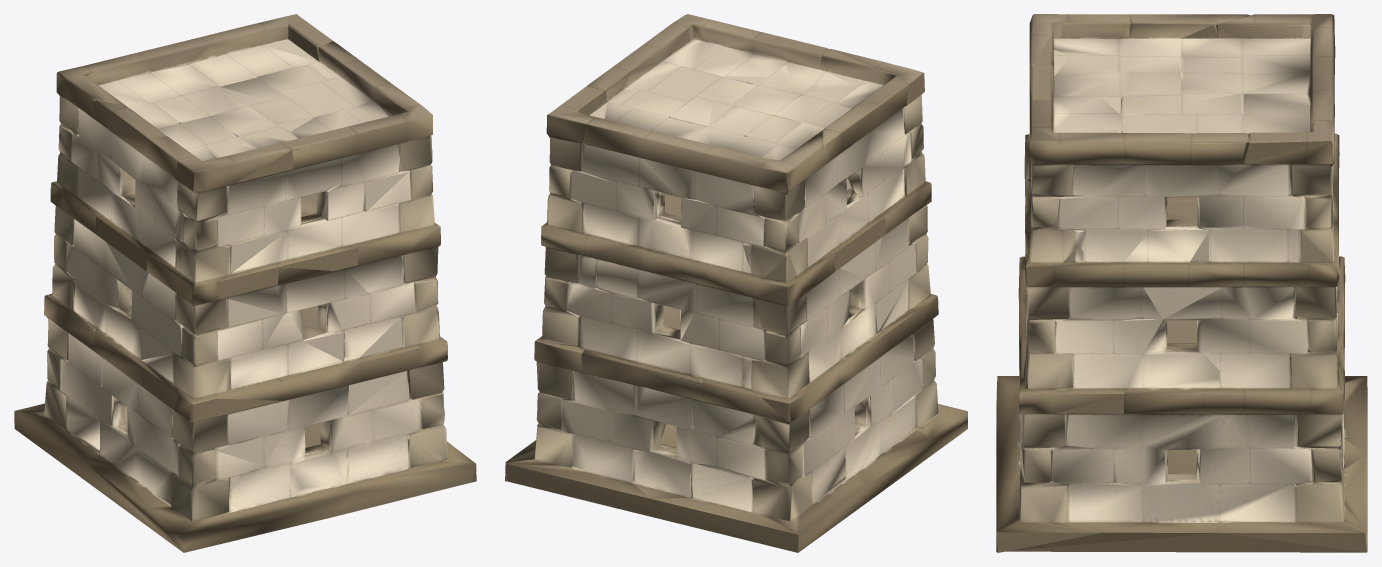
Rendered from watchtower.glb.
3 renders of one model, left to right at view 1: azimuth 30°, elevation 25°; view 2: azimuth 150°, elevation 25°; view 3: azimuth 270°, elevation 25°, orthographic. The views are drawn at different scales.
Parts seen in each view (by area): view 1: watchtower; view 2: watchtower; view 3: watchtower.
Part boxes in pixels (<box>): watchtower: <box>14,14,476,552</box>; watchtower: <box>505,14,967,552</box>; watchtower: <box>996,14,1367,552</box>.
Bounding box in the file's own units: 1.69 × 2 × 1.69.
1 material, 1 textured.
